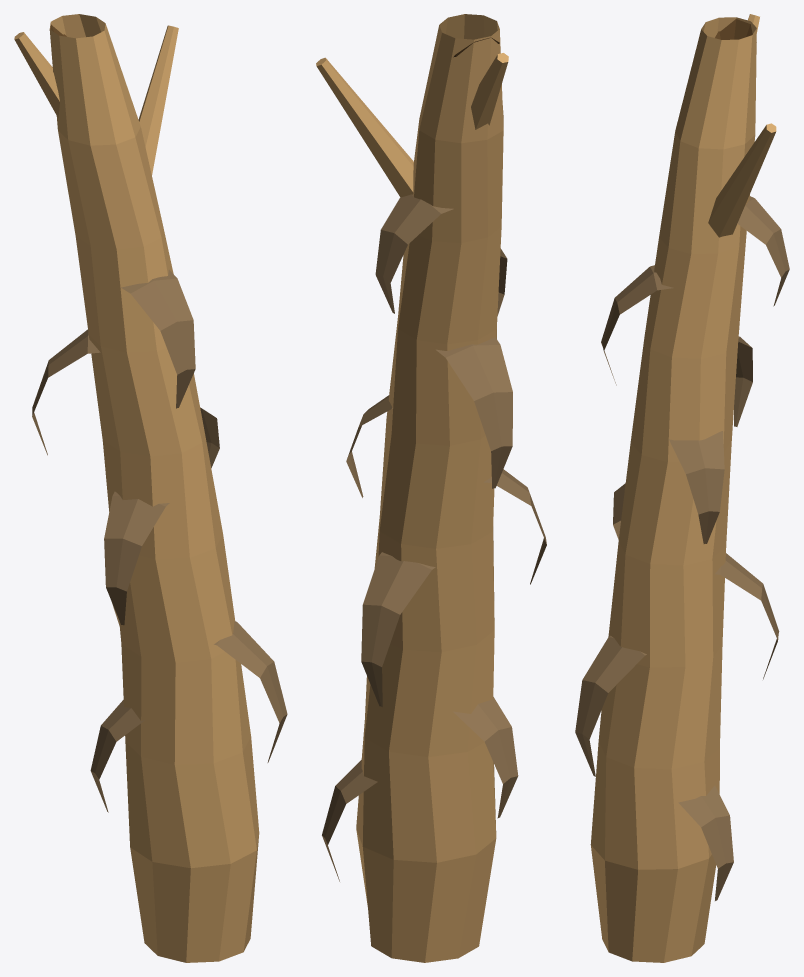
File: PalmDead.fbx
3 views of the same model, side by side, from view 1: azimuth 30°, elevation 25°; view 2: azimuth 150°, elevation 25°; view 3: azimuth 270°, elevation 25° (orthographic). The views are drawn at different scales.
Visible parts, largest first — view 1: PalmDead; view 2: PalmDead; view 3: PalmDead.
Part boxes in pixels (box(x1,y1,x2,y2)): PalmDead: box(14, 14, 287, 962); PalmDead: box(316, 14, 546, 962); PalmDead: box(575, 14, 789, 962).
Size of the model in its own units: 101 by 450 by 100.
